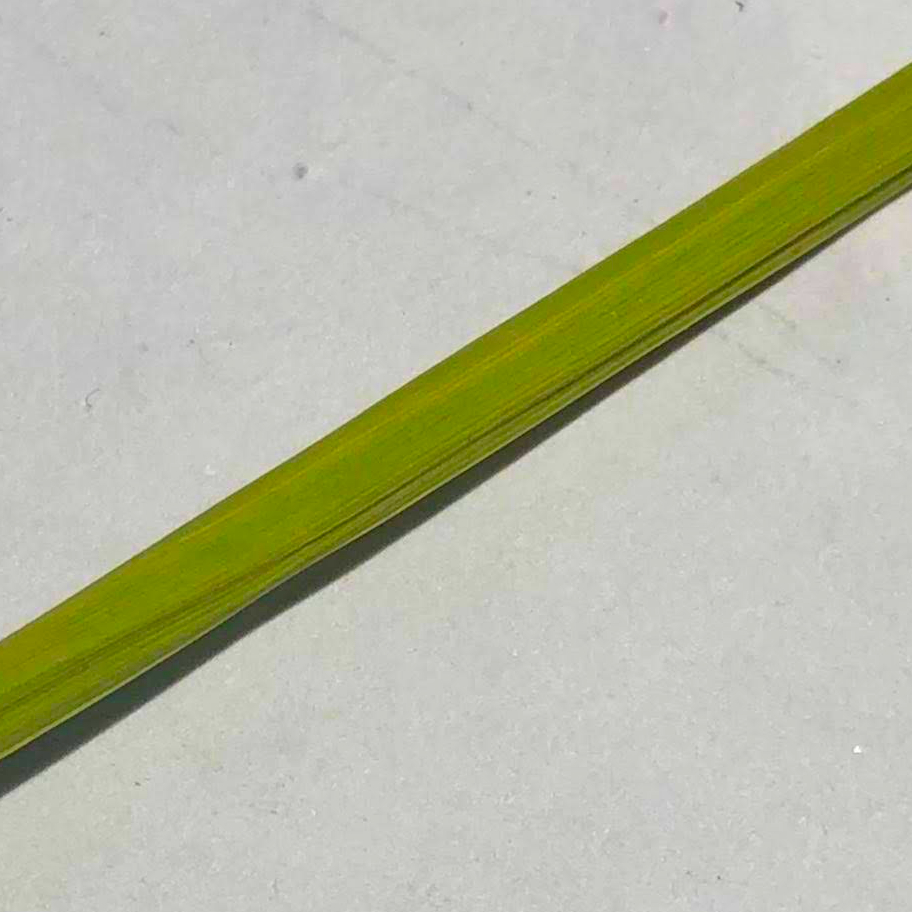healthy: (1, 57, 910, 766)
